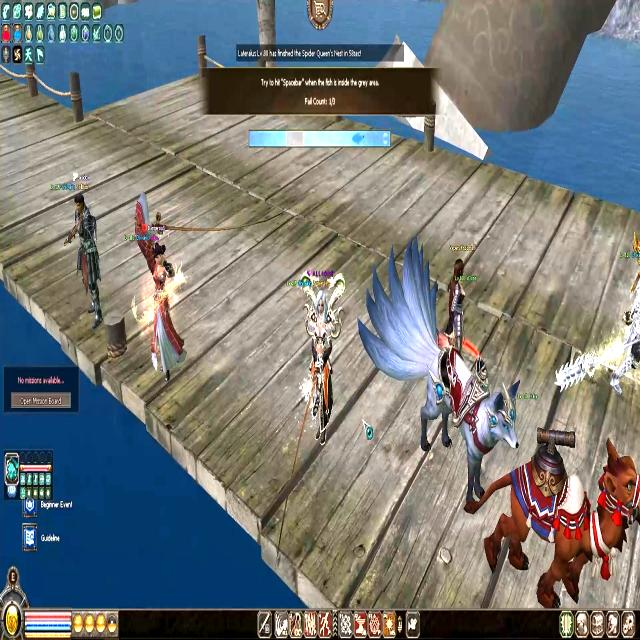fishes: (352, 132, 365, 144)
